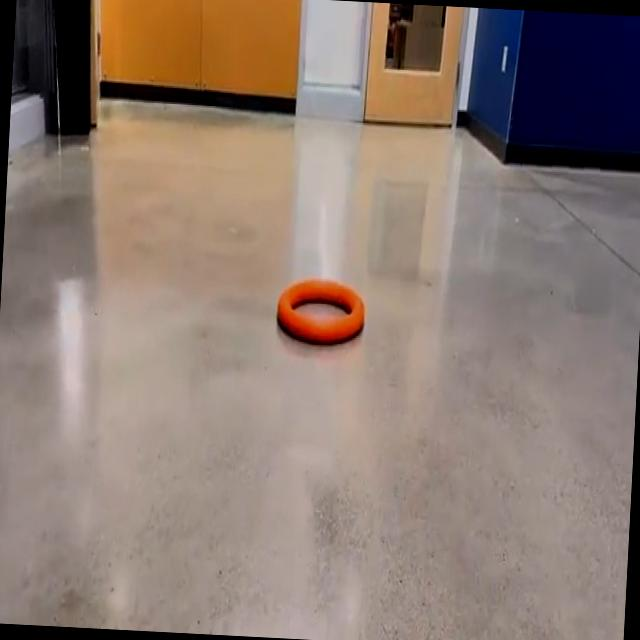note: (278, 279, 364, 342)
